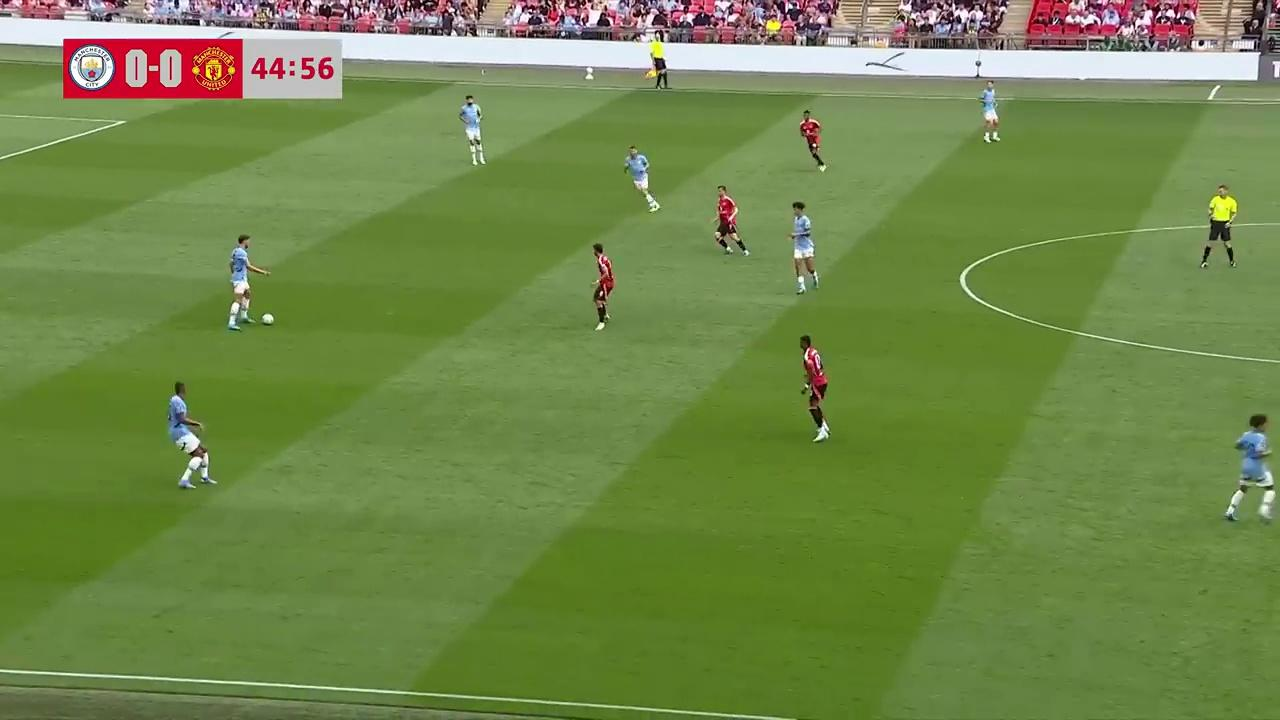ball: (261, 310, 275, 325)
player: (1222, 414, 1277, 526), (167, 378, 218, 490), (227, 234, 270, 331), (799, 334, 831, 443), (787, 202, 819, 293), (711, 185, 748, 256), (623, 144, 660, 213), (591, 243, 615, 330), (458, 94, 486, 165), (799, 109, 825, 171), (979, 79, 1000, 143)
referee: (1199, 183, 1238, 269), (645, 32, 670, 90)
